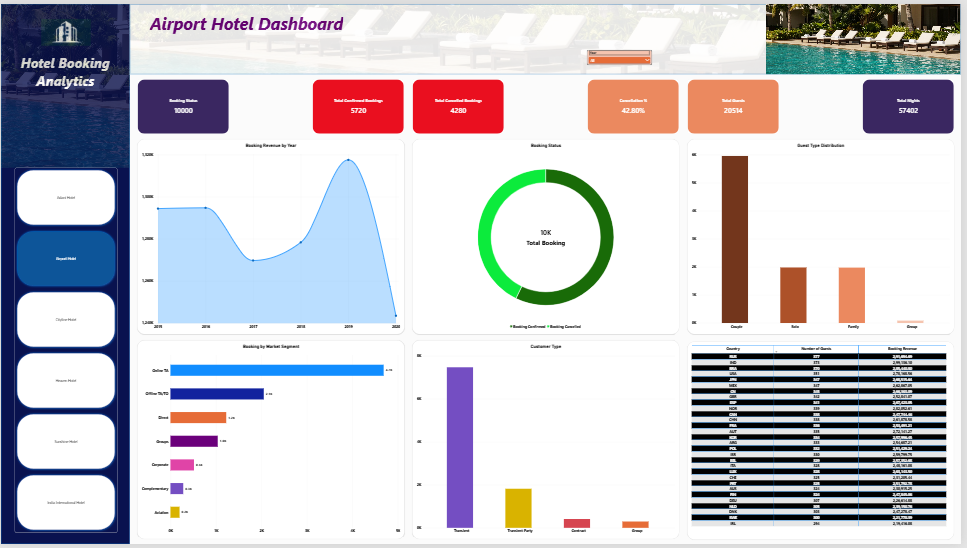

This screenshot's page, from the dashboard's own definition file:
{"tool":"powerbi","page":{"name":"Airport Hotel","canvas":[3840,2160],"ordinal":1},"visuals":[{"type":"shape","box":[0,0,515,2160],"z":0},{"type":"image","box":[158,62,200,107],"z":1000},{"type":"shape","box":[515,0,3325,281.2],"z":2000},{"type":"image","box":[3061.5,0,776.9,280.8],"z":3000},{"type":"image","box":[515.4,0,2546.2,280.8],"z":4000},{"type":"donutChart","title":"Booking  Status ","fields":{"Category":["Airport_Hotel.Booking Status"],"Y":["CountNonNull(Airport_Hotel.Booking Status)"]},"box":[1643.9,539,1068.3,780.5],"z":5000},{"type":"barChart","title":"Booking by Market Segment ","fields":{"Category":["Airport_Hotel.market_segment"],"Y":["CountNonNull(Airport_Hotel.market_segment)"]},"box":[546.3,1346.3,1069,794.8],"z":6000},{"type":"clusteredColumnChart","title":"Guest  Type  Distribution","fields":{"Category":["Airport_Hotel.Guest Type"],"Y":["CountNonNull(Airport_Hotel.Guest Type)"]},"box":[2744.1,539.7,1067.6,780.9],"z":7000},{"type":"stackedAreaChart","title":"Booking  Revenue by Year","fields":{"Category":["Airport_Hotel.Year"],"Y":["Sum(Airport_Hotel.Booking Revenue)"]},"box":[546.3,539,1069,781],"z":8000},{"type":"cardVisual","title":"Total Bookings","fields":{"Data":["Airport_Hotel.Total  Booking"]},"box":[1246,300,367.5,220],"z":9000},{"type":"cardVisual","title":"Total Bookings","fields":{"Data":["Airport_Hotel.Total  Nights"]},"box":[3444,302,367.5,220],"z":10000},{"type":"cardVisual","title":"Total Bookings","fields":{"Data":["Airport_Hotel.Total cancelled Booking"]},"box":[1644,300,367.5,220],"z":11000},{"type":"cardVisual","title":"Total Bookings","fields":{"Data":["Airport_Hotel.Cancellation  %"]},"box":[2344,302,367.5,220],"z":13000},{"type":"image","box":[0,0,515,655],"z":14000},{"type":"pageNavigator","box":[53.3,656.7,410,1460],"z":15000},{"type":"slicer","fields":{"Values":["Airport_Hotel.Year"]},"box":[2344.1,183.8,257.8,57.8],"z":16000},{"type":"slicer","fields":{"Values":["Airport_Hotel.Month"]},"box":[1644.1,182.4,257.5,57.5],"z":17000},{"type":"clusteredColumnChart","title":"Customer Type","fields":{"Category":["Airport_Hotel.customer_type"],"Y":["CountNonNull(Airport_Hotel.customer_type)"]},"box":[1644.1,1347.1,1068.3,795.1],"z":18000},{"type":"tableEx","fields":{"Values":["Airport_Hotel.country","CountNonNull(Airport_Hotel.country)","Sum(Airport_Hotel.Booking Revenue)"]},"box":[2745,1347.5,1067.5,792.5],"z":19000},{"type":"cardVisual","title":"Total Bookings","fields":{"Data":["CountNonNull(Airport_Hotel.Booking Status)"]},"box":[546,300,367.5,220],"z":19001},{"type":"cardVisual","title":"Total Bookings","fields":{"Data":["Airport_Hotel.Total  Guests"]},"box":[2744,302,367.5,220],"z":19002}]}

Visuals, with their boxes in screenshot pixels (x1, y1, x2, y2), scaled from the page's 3840x2160 canvas onto the 967x548 screenshot:
shape: [x1=0, y1=0, x2=130, y2=547]
image: [x1=40, y1=16, x2=90, y2=43]
shape: [x1=130, y1=0, x2=966, y2=71]
image: [x1=771, y1=0, x2=966, y2=71]
image: [x1=130, y1=0, x2=771, y2=71]
"Booking  Status " donutChart: [x1=414, y1=137, x2=683, y2=335]
"Booking by Market Segment " barChart: [x1=138, y1=342, x2=407, y2=543]
"Guest  Type  Distribution" clusteredColumnChart: [x1=691, y1=137, x2=960, y2=335]
"Booking  Revenue by Year" stackedAreaChart: [x1=138, y1=137, x2=407, y2=335]
"Total Bookings" cardVisual: [x1=314, y1=76, x2=406, y2=132]
"Total Bookings" cardVisual: [x1=867, y1=77, x2=960, y2=132]
"Total Bookings" cardVisual: [x1=414, y1=76, x2=507, y2=132]
"Total Bookings" cardVisual: [x1=590, y1=77, x2=683, y2=132]
image: [x1=0, y1=0, x2=130, y2=166]
pageNavigator: [x1=13, y1=167, x2=117, y2=537]
slicer - Airport_Hotel.Year: [x1=590, y1=47, x2=655, y2=61]
slicer - Airport_Hotel.Month: [x1=414, y1=46, x2=479, y2=61]
"Customer Type" clusteredColumnChart: [x1=414, y1=342, x2=683, y2=543]
tableEx - Airport_Hotel.country x CountNonNull(Airport_Hotel.country): [x1=691, y1=342, x2=960, y2=543]
"Total Bookings" cardVisual: [x1=137, y1=76, x2=230, y2=132]
"Total Bookings" cardVisual: [x1=691, y1=77, x2=784, y2=132]
